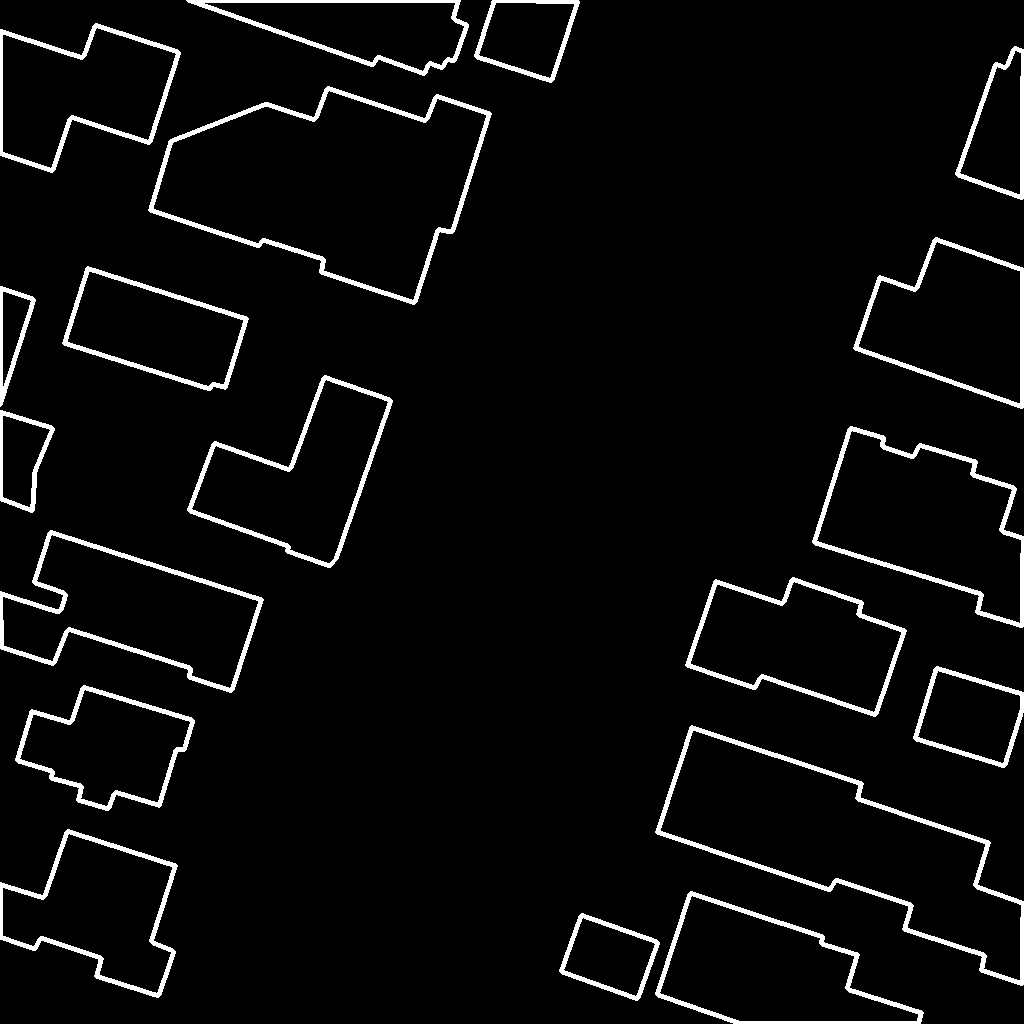building: (657, 727, 1024, 985), (150, 88, 491, 304), (0, 532, 263, 692), (814, 428, 1024, 627), (189, 377, 392, 567), (657, 893, 923, 1024), (687, 579, 906, 716), (0, 831, 177, 997), (855, 239, 1024, 408), (0, 25, 180, 172), (64, 268, 248, 390), (17, 687, 194, 810), (187, 0, 468, 75), (0, 288, 54, 512), (915, 668, 1024, 767), (957, 48, 1024, 199), (476, 0, 579, 82), (561, 915, 659, 1000)
